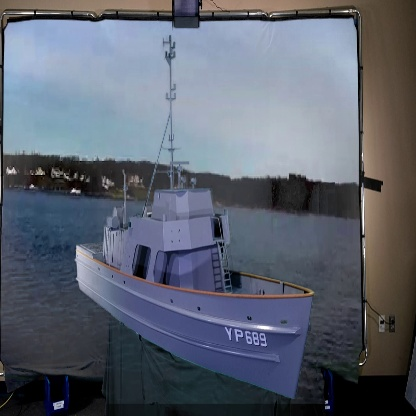YP689: (74, 35, 319, 403)
